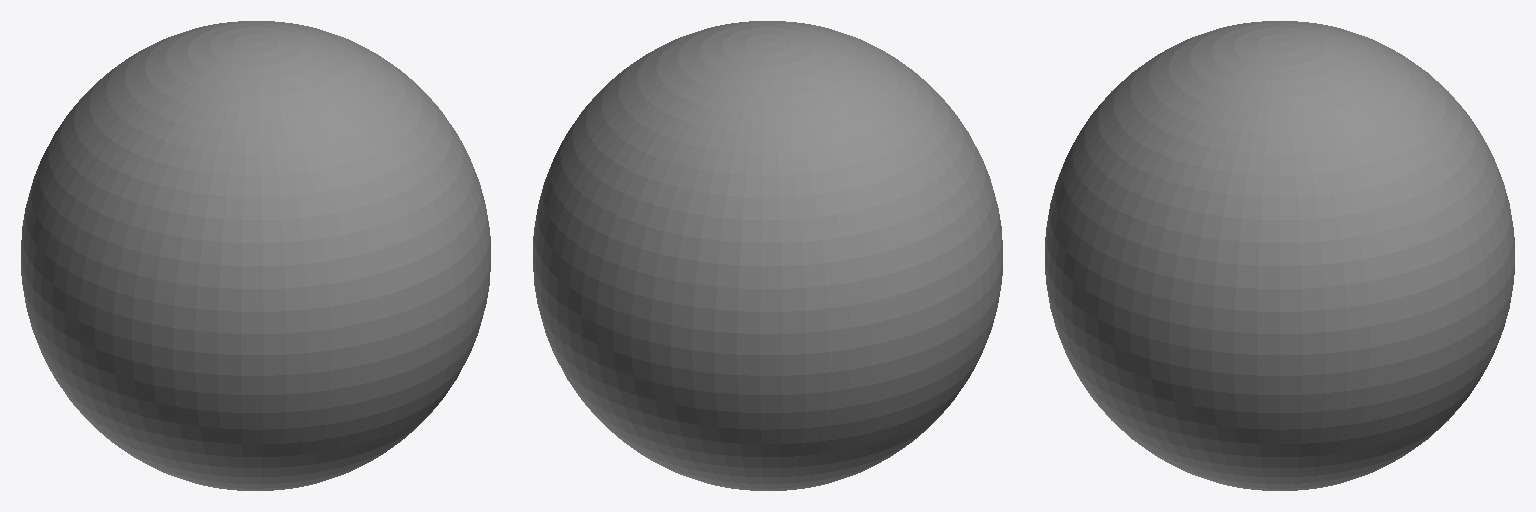
File: neptune.obj
The picture shows the model from 3 angles: view 1: azimuth 30°, elevation 25°; view 2: azimuth 150°, elevation 25°; view 3: azimuth 270°, elevation 25°; orthographic projection.
Visible parts, largest first — view 1: Sphere002.001; view 2: Sphere002.001; view 3: Sphere002.001.
Boxes of the visible parts, <box> form: Sphere002.001: <box>21,21,490,490</box>; Sphere002.001: <box>533,21,1002,490</box>; Sphere002.001: <box>1045,21,1514,490</box>.
Size of the model in its own units: 170 by 170 by 170.